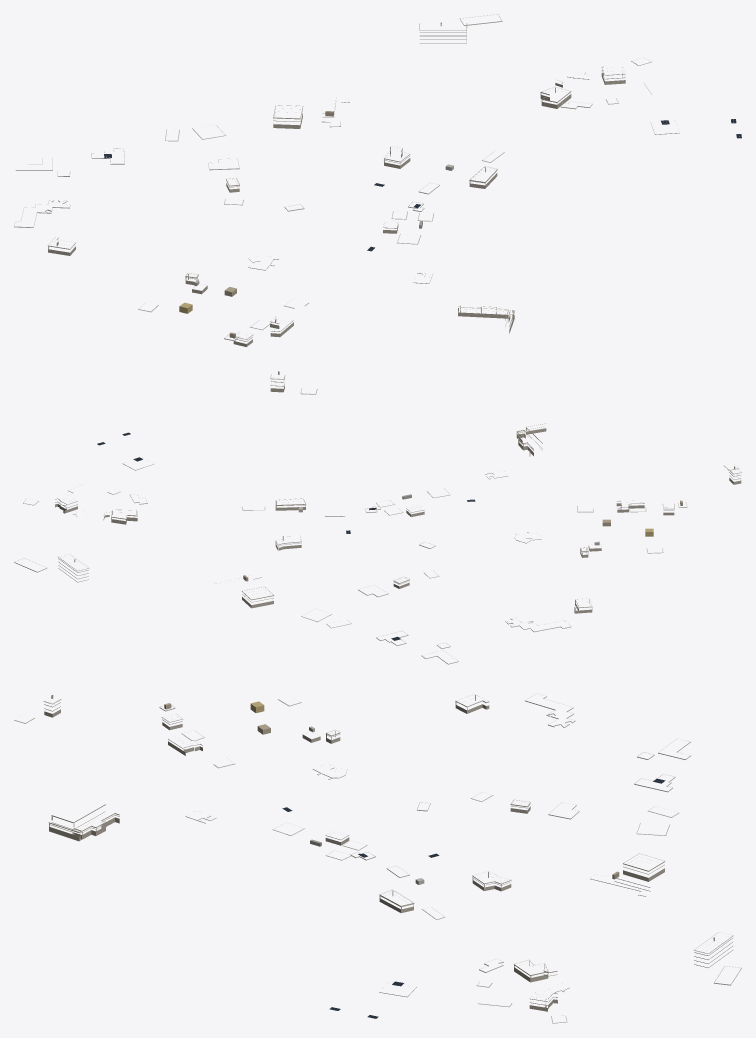
3 views of the same model, one above another, from view 1: azimuth 30°, elevation 25°; view 2: azimuth 150°, elevation 25°; view 3: azimuth 270°, elevation 25° (orthographic). The views are drawn at different scales.
Parts seen in each view (by area): view 1: detail; view 2: detail; view 3: detail.
Boxes of the visible parts, box(x1,y1,x2,y2) form: detail: box(14, 14, 741, 394); detail: box(14, 423, 741, 664); detail: box(14, 693, 741, 1023).
Bounding box in the file's own units: 514 × 22.52 × 477.
